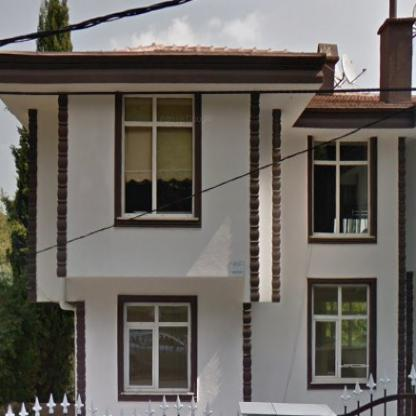window: (124, 98, 193, 214), (126, 304, 188, 391), (313, 286, 368, 382), (312, 141, 368, 235)
